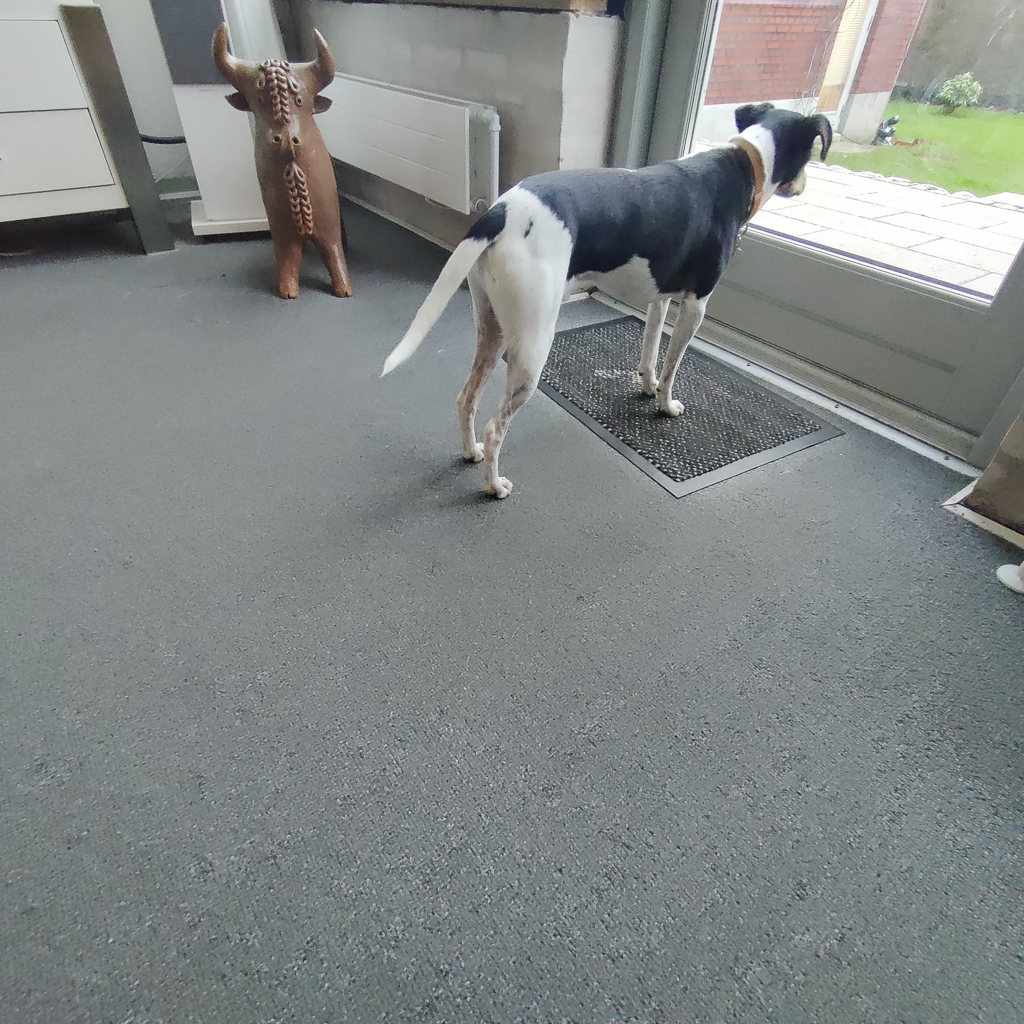Cattle: (204, 13, 376, 311)
Dog: (366, 86, 843, 507)
Humanoid: (869, 111, 906, 150)
